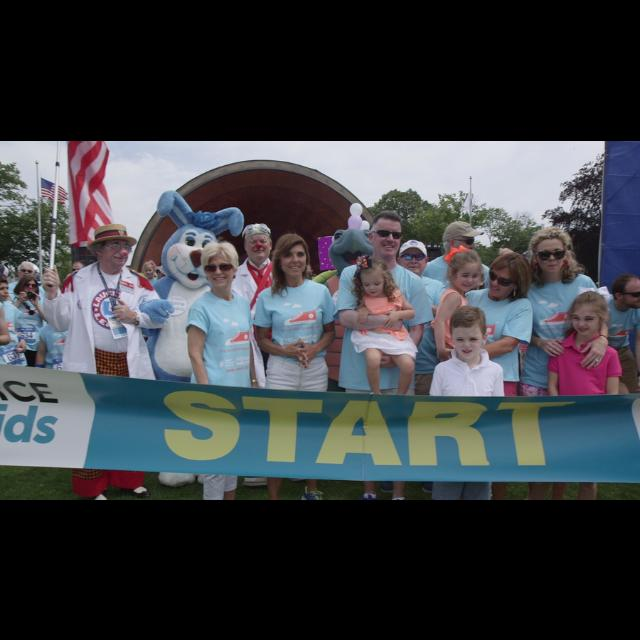head: (450, 306, 490, 360), (490, 252, 530, 300), (201, 241, 239, 289), (570, 290, 608, 336), (532, 228, 570, 274), (368, 210, 404, 258), (94, 231, 134, 269), (448, 248, 482, 292), (358, 256, 392, 298), (278, 234, 310, 278), (444, 220, 476, 262), (243, 224, 274, 262), (22, 274, 40, 296), (18, 260, 36, 282), (0, 276, 12, 302)
person: (216, 220, 300, 492), (417, 218, 498, 446), (348, 254, 420, 416), (434, 246, 498, 414), (5, 270, 51, 414), (3, 260, 51, 390), (0, 274, 36, 424)
